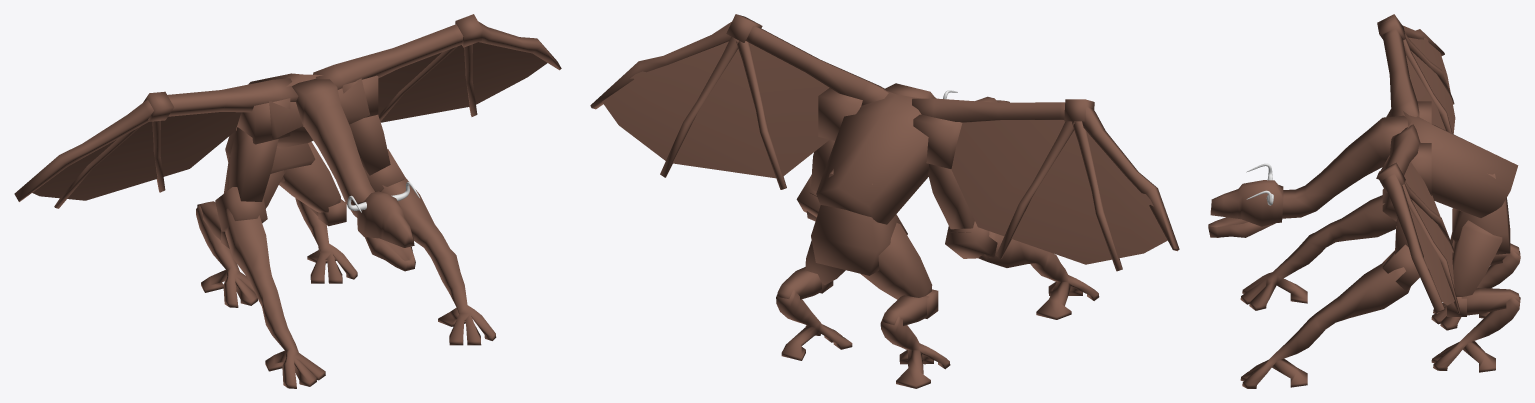
The model's file is demoon1.fbx.
The picture shows the model from 3 angles, left to right: view 1: azimuth 30°, elevation 25°; view 2: azimuth 150°, elevation 25°; view 3: azimuth 270°, elevation 25°; orthographic projection. The views are drawn at different scales.
Parts seen in each view (by area): view 1: Cube.040; view 2: Cube.040; view 3: Cube.040.
Boxes of the visible parts, box(x1,y1,x2,y2) form: Cube.040: box(14, 14, 561, 388); Cube.040: box(590, 14, 1179, 388); Cube.040: box(1208, 14, 1520, 388).
Size of the model in its own units: 6138 by 2769 by 3158.
